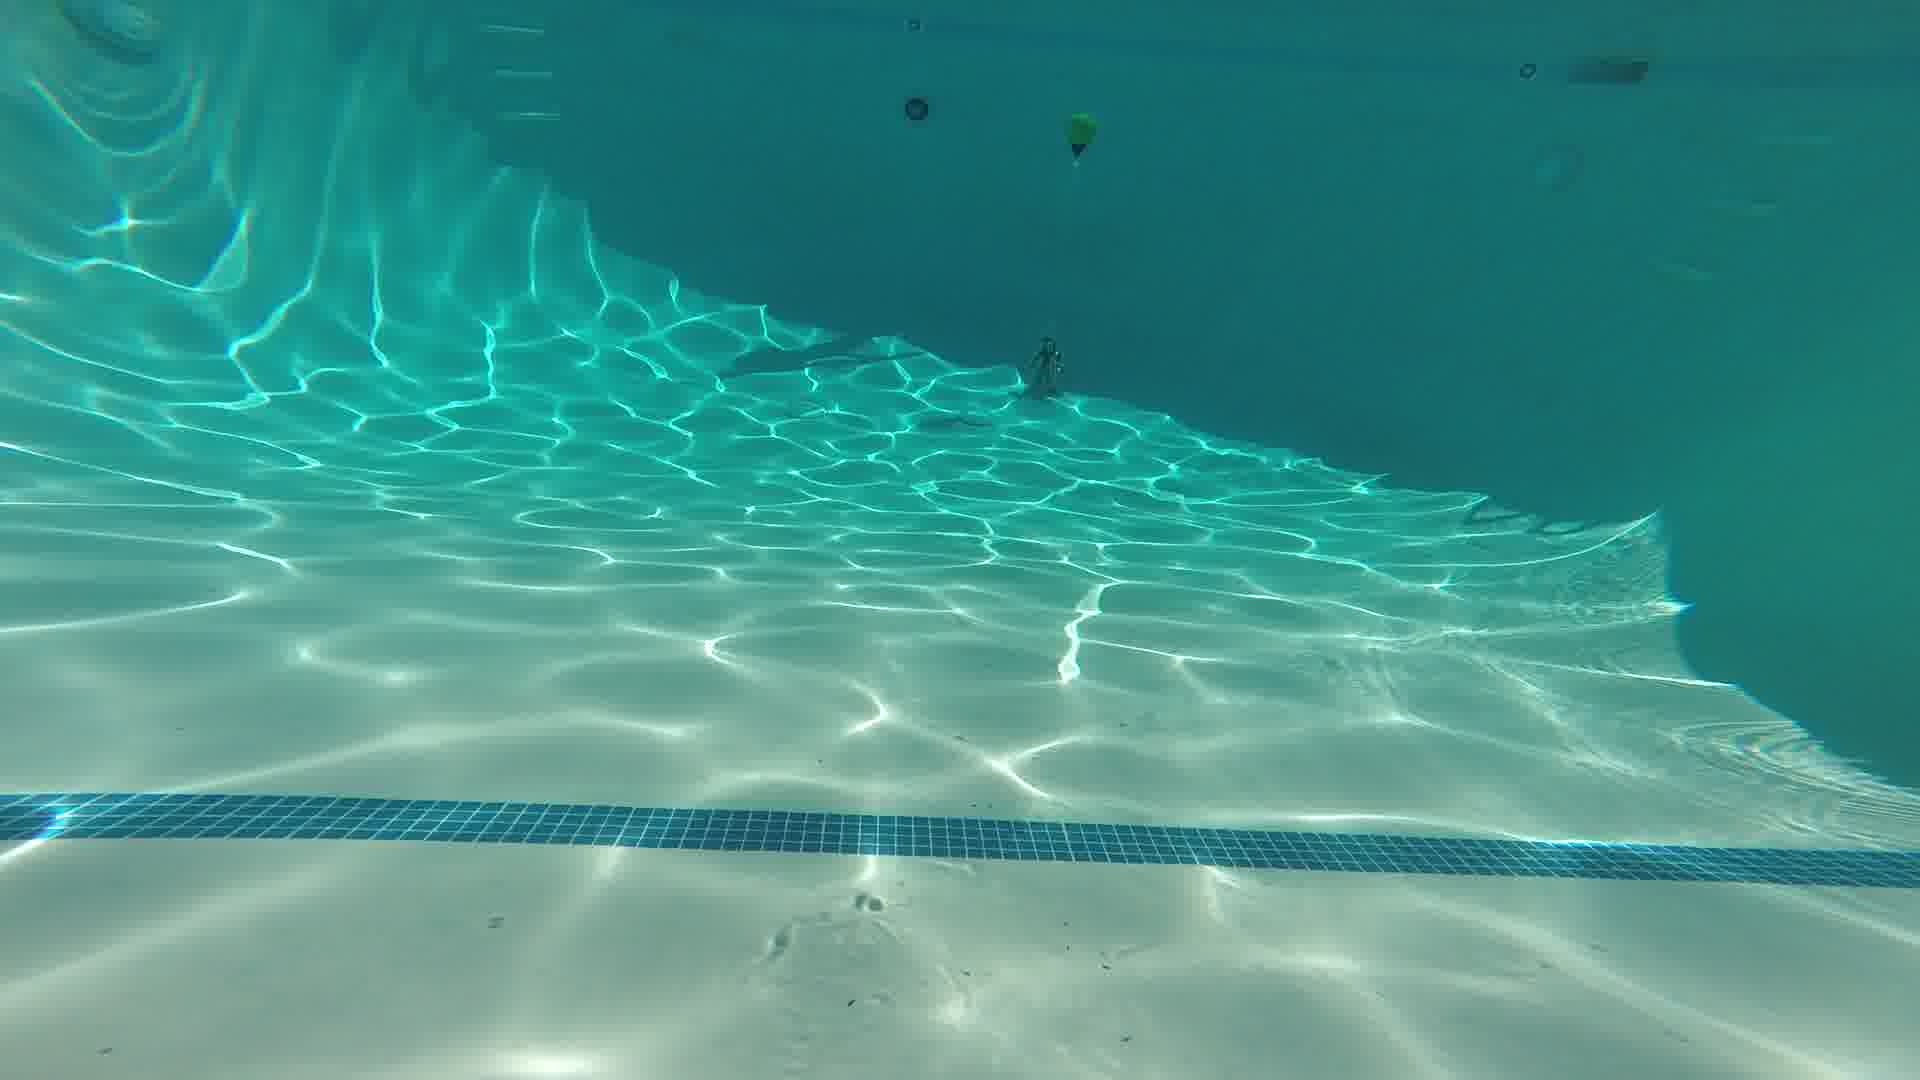yellow_buoy: (1060, 105, 1098, 164)
